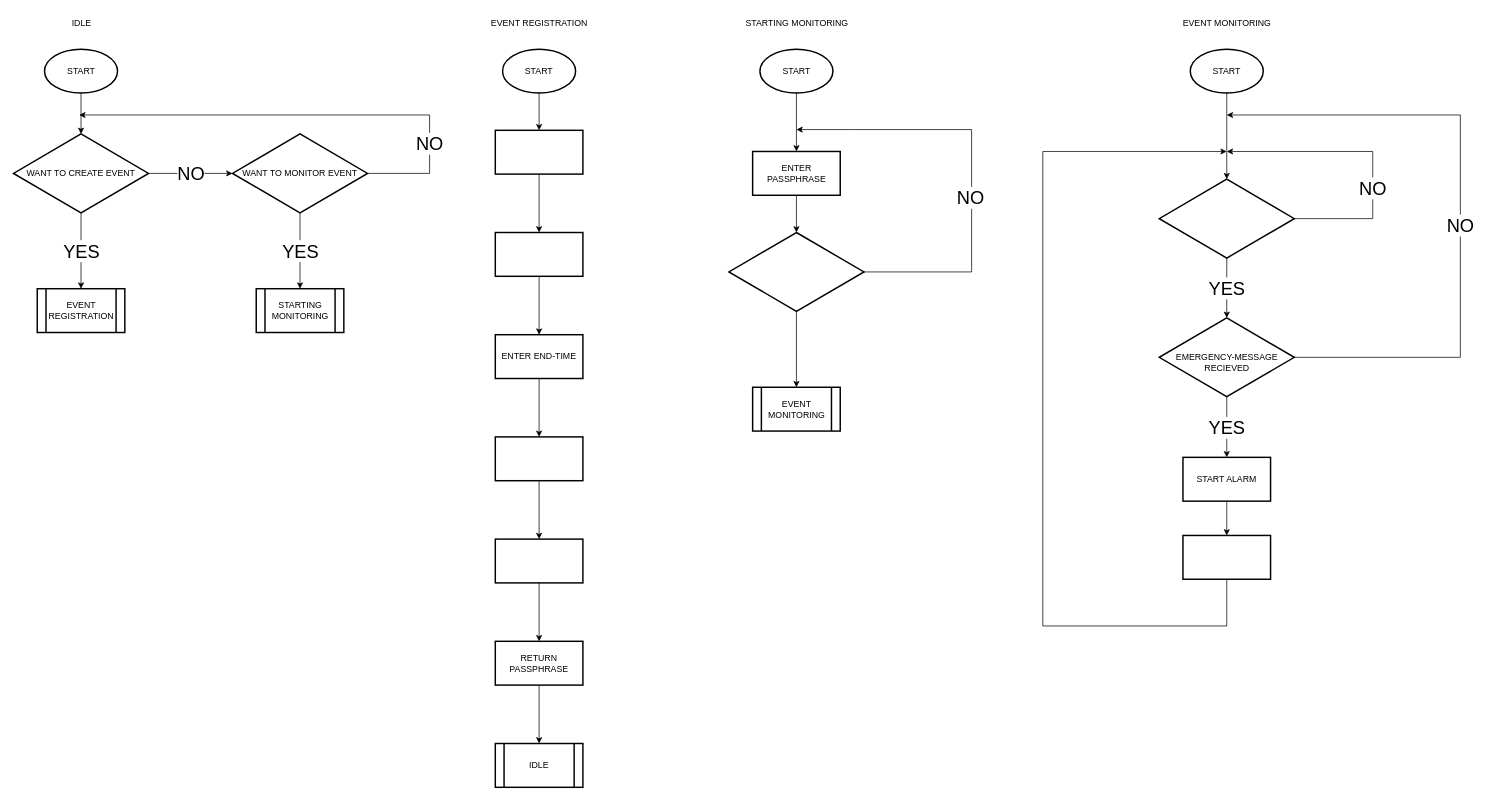
This 1486x800 diagram has some shape labels left out. Here are the shapes that lost their labels. From the top down, the centre of each, then its label:
At (538,151): "ENTER NAME".
At (1226,218): "IS EVENT GOING ON".
At (538,254): "ENTER START-TIME".
At (796,271): "PASSPHRASE CORRECT".
At (538,458): "SUBMIT".
At (538,560): "RETURN QR-CODE".
At (1226,557): "TAKE RESCUE-MEASURES".
